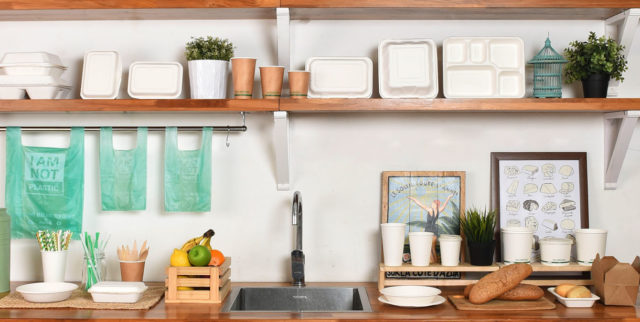plastic_bag: (1, 122, 89, 243), (93, 122, 158, 217), (157, 123, 216, 215)
